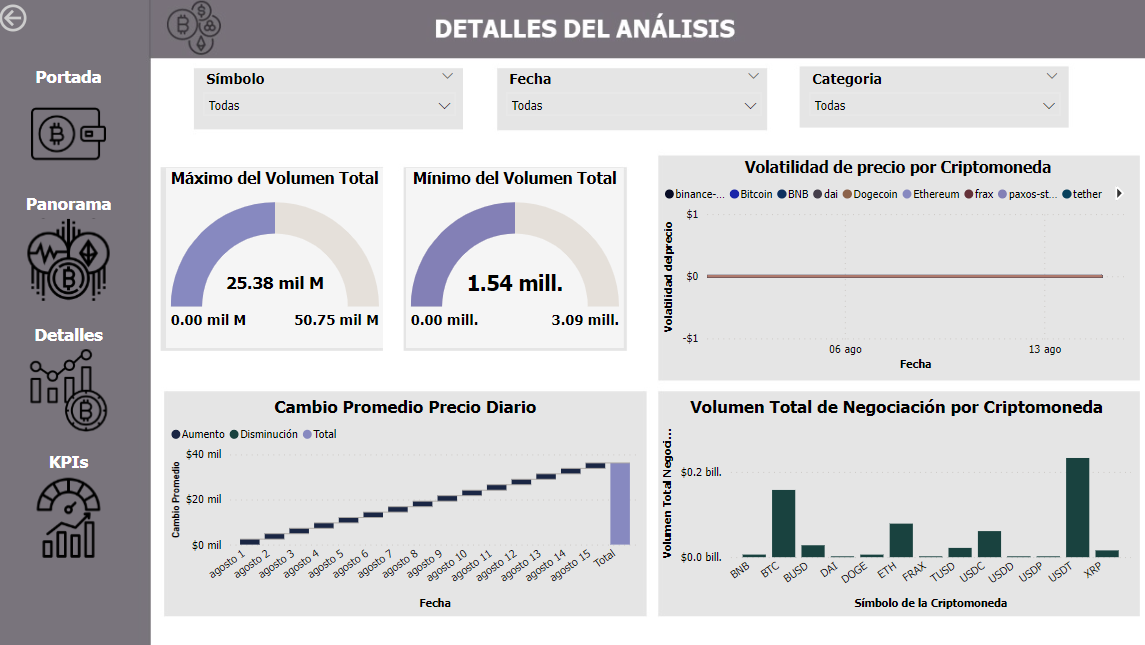

This screenshot's page, from the dashboard's own definition file:
{"tool":"powerbi","page":{"name":"Detalles","canvas":[1280,720],"ordinal":2},"visuals":[{"type":"stackedAreaChart","title":"Volatilidad de precio por Criptomoneda","fields":{"Y":["Cryptocurrency.Volatilidad Precio"],"Category":["Cryptocurrency.Date.Variación.Jerarquía de fechas.Mes"],"Series":["Cryptocurrency.Currency"]},"box":[738.3,175,530,241.7],"z":0},{"type":"columnChart","title":"Volumen Total de Negociación por Criptomoneda","fields":{"Category":["Cripto_Id.Symbol","Cripto_Id.Currency"],"Y":["Cryptocurrency.Volumen Total de Negociación por Criptomoneda"]},"box":[736.7,440,530,241.7],"z":1000},{"type":"waterfallChart","title":"Cambio Promedio Precio Diario","fields":{"Category":["calendario.Date.Variación.Jerarquía de fechas.Mes","calendario.Date.Variación.Jerarquía de fechas.Día","Cryptocurrency.Currency"],"Y":["Cryptocurrency.Cambio Promedio Precio Diario"]},"box":[190,440,531.7,241.7],"z":2000},{"type":"actionButton","box":[0,0,100,40],"z":3000},{"type":"slicer","fields":{"Values":["calendario.Date"]},"box":[558.3,71.7,303.3,73.3],"z":4000},{"type":"gauge","title":"Máximo del Volumen Total","fields":{"Y":["Max(Cryptocurrency.TotalVolume)"]},"box":[190,186.7,241.7,200],"z":5000},{"type":"gauge","title":"Mínimo del Volumen Total","fields":{"Y":["Min(Cryptocurrency.TotalVolume)"]},"box":[456.7,186.7,241.7,200],"z":6000},{"type":"slicer","fields":{"Values":["Cripto_Id.Category"]},"box":[895,71.7,298.3,73.3],"z":7000},{"type":"slicer","fields":{"Values":["Cripto_Id.Symbol"]},"box":[221.7,71.7,300,73.3],"z":8000},{"type":"actionButton","title":"Portada","box":[0,73.3,163.3,123.3],"z":8001},{"type":"actionButton","title":"Panorama","box":[0,215,163.3,123.3],"z":8002},{"type":"actionButton","title":"Detalles","box":[0,360,163.3,123.3],"z":8003},{"type":"actionButton","title":"KPIs","box":[0,501.7,163.3,123.3],"z":8004}]}

Visuals, with their boxes on the page's 1280x720 design canvas (x1, y1, x2, y2). These are canvas units, not pixel positions in the 1145x645 screenshot, which may show the page scaled, cropped or inside an application window:
"Volatilidad de precio por Criptomoneda" stackedAreaChart: BBox(738, 175, 1268, 417)
"Volumen Total de Negociación por Criptomoneda" columnChart: BBox(737, 440, 1267, 682)
"Cambio Promedio Precio Diario" waterfallChart: BBox(190, 440, 722, 682)
actionButton: BBox(0, 0, 100, 40)
slicer - calendario.Date: BBox(558, 72, 862, 145)
"Máximo del Volumen Total" gauge: BBox(190, 187, 432, 387)
"Mínimo del Volumen Total" gauge: BBox(457, 187, 698, 387)
slicer - Cripto_Id.Category: BBox(895, 72, 1193, 145)
slicer - Cripto_Id.Symbol: BBox(222, 72, 522, 145)
"Portada" actionButton: BBox(0, 73, 163, 197)
"Panorama" actionButton: BBox(0, 215, 163, 338)
"Detalles" actionButton: BBox(0, 360, 163, 483)
"KPIs" actionButton: BBox(0, 502, 163, 625)
